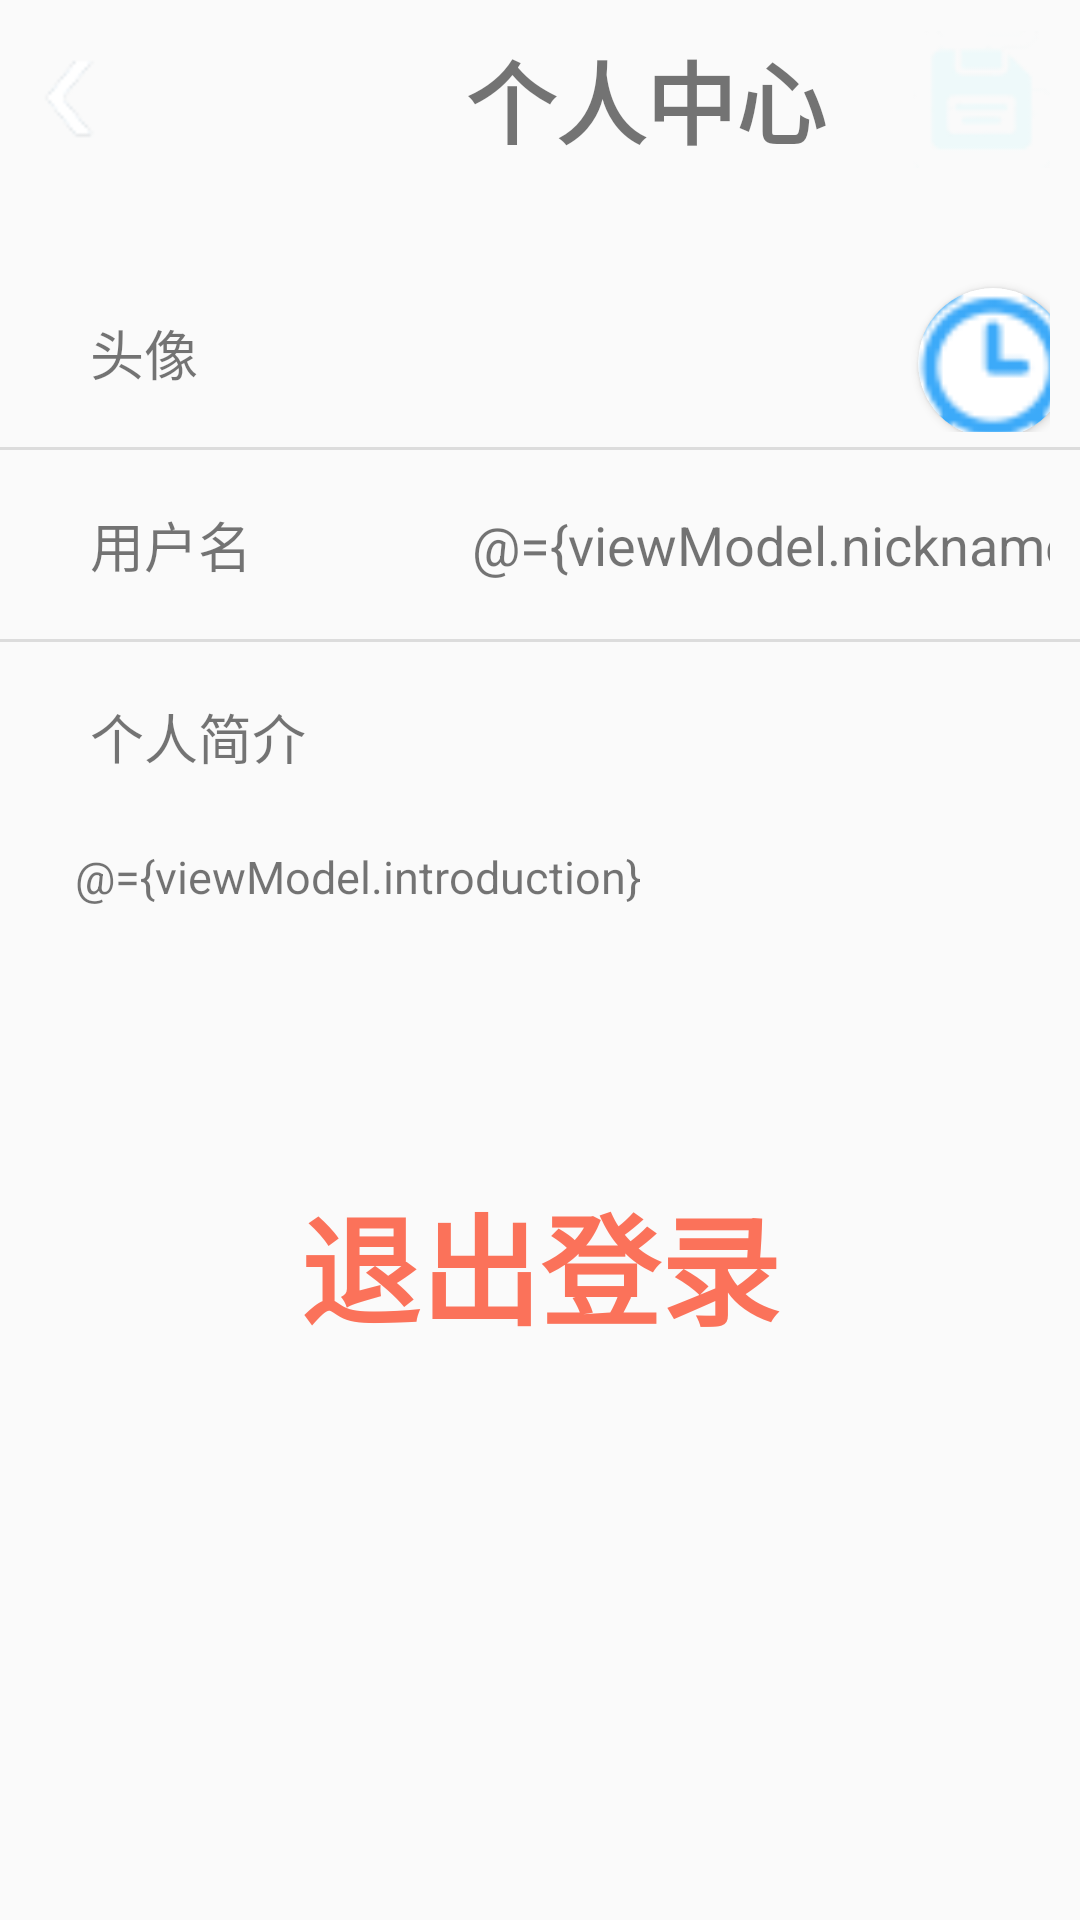

Where icons sit on this 1080×1920 app screen, as BBox(x1, y1, x2, y2):
bill reminder: BBox(919, 294, 1050, 432)
